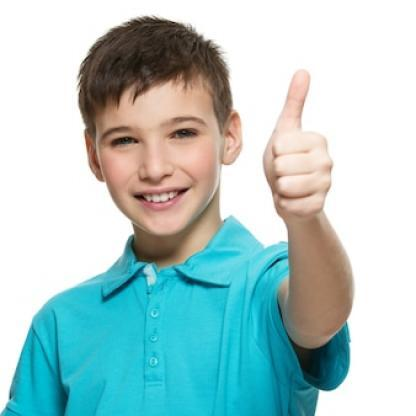thumb_up: (257, 63, 338, 224)
